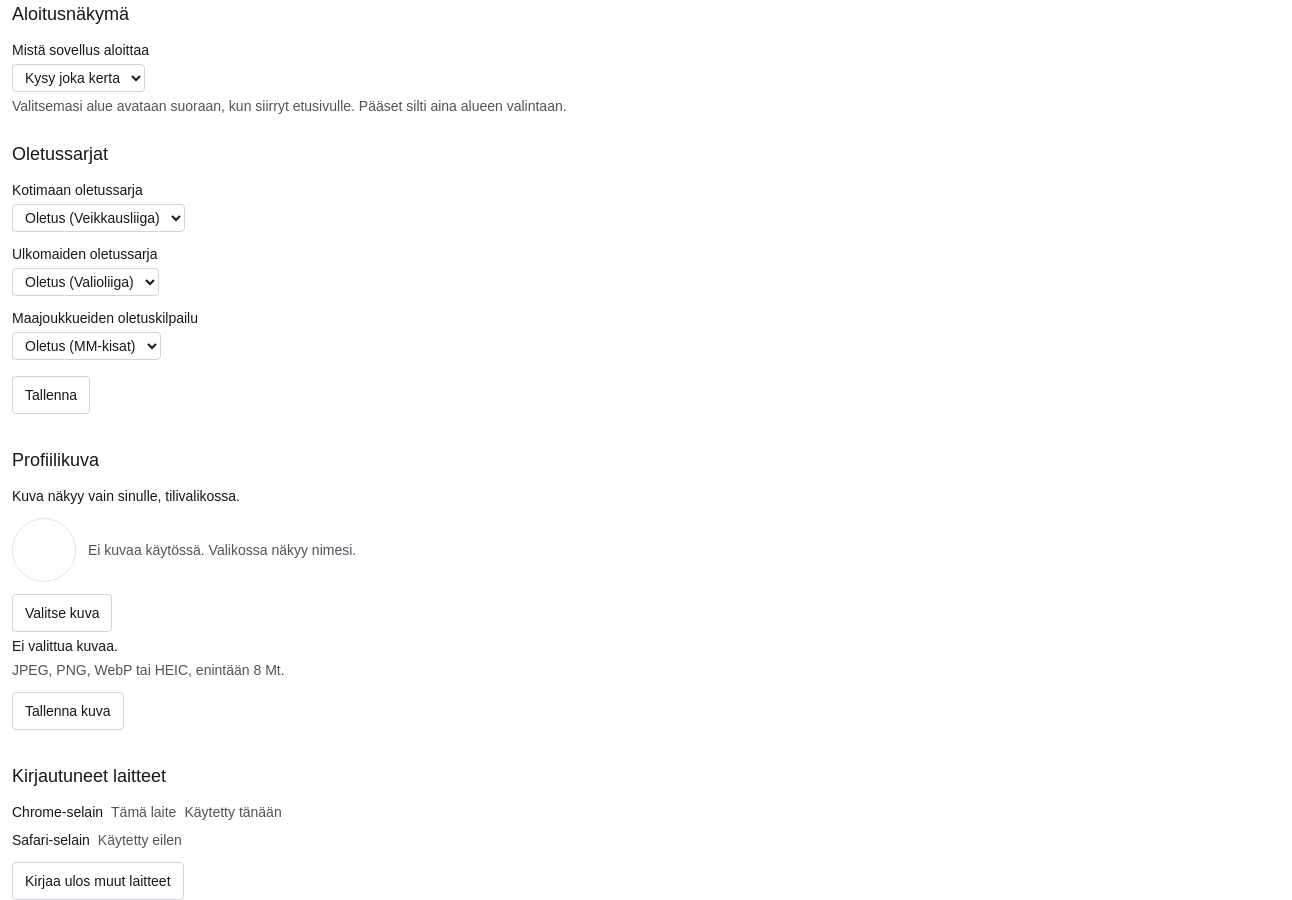
Test: signed-in devices › reports a failed sign-out
Click the button "Kirjaa ulos muut laitteet" at (98, 881), box top-left (12, 862), bottom-right (184, 899)
(page scrolled)
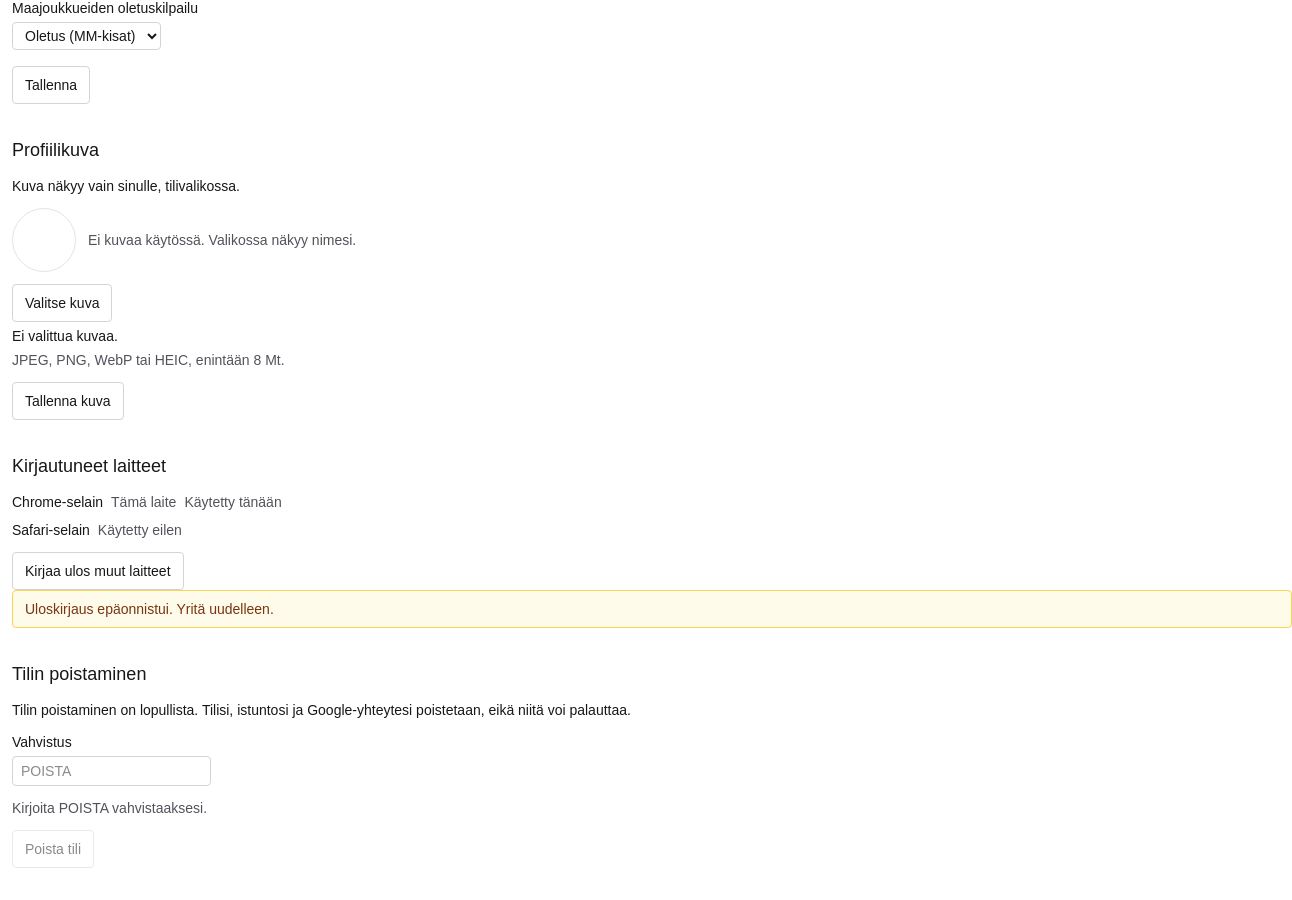
Check: the text "Uloskirjaus epäonnistui. Yritä uudelleen." is shown, box top-left (12, 590), bottom-right (1291, 628)
